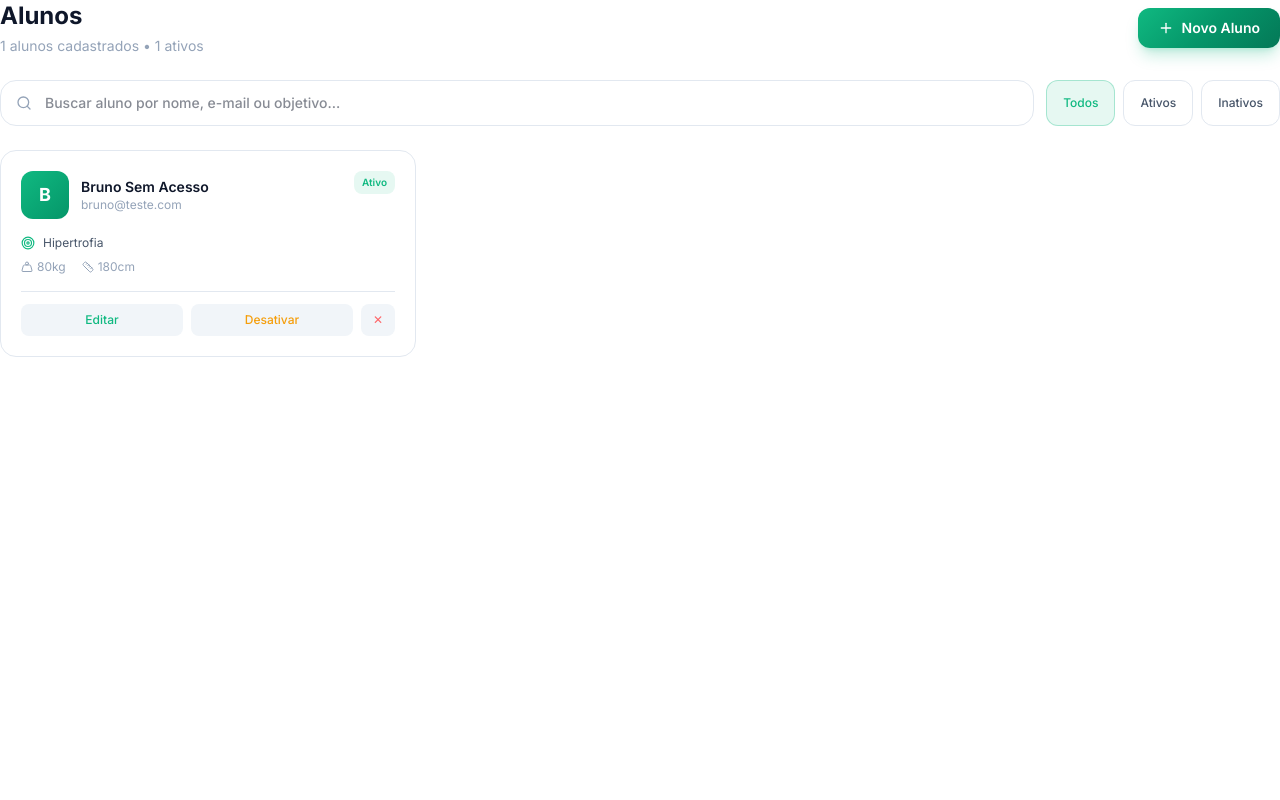
Test: StudentsPage — Student login provisioning error handling › should reject editing an existing student without userId when supplied login email belongs to another account
Expected: the heading "Bruno Sem Acesso" is shown, [81, 177, 209, 197]
Click the button "Editar" at x=102, y=320, box [21, 304, 183, 336]
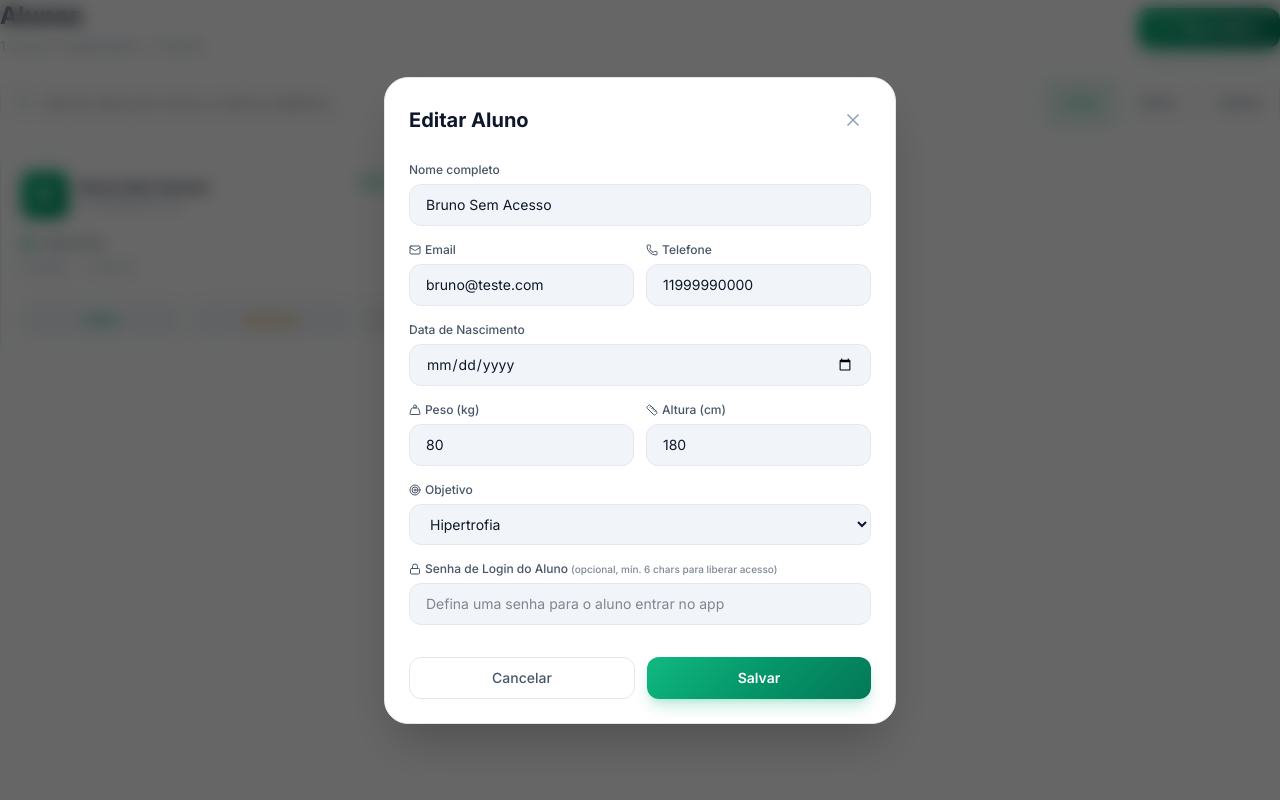
Replace the text in the field below "Nome completo" with "Bruno Alterado" at x=640, y=204, box [409, 184, 871, 226]
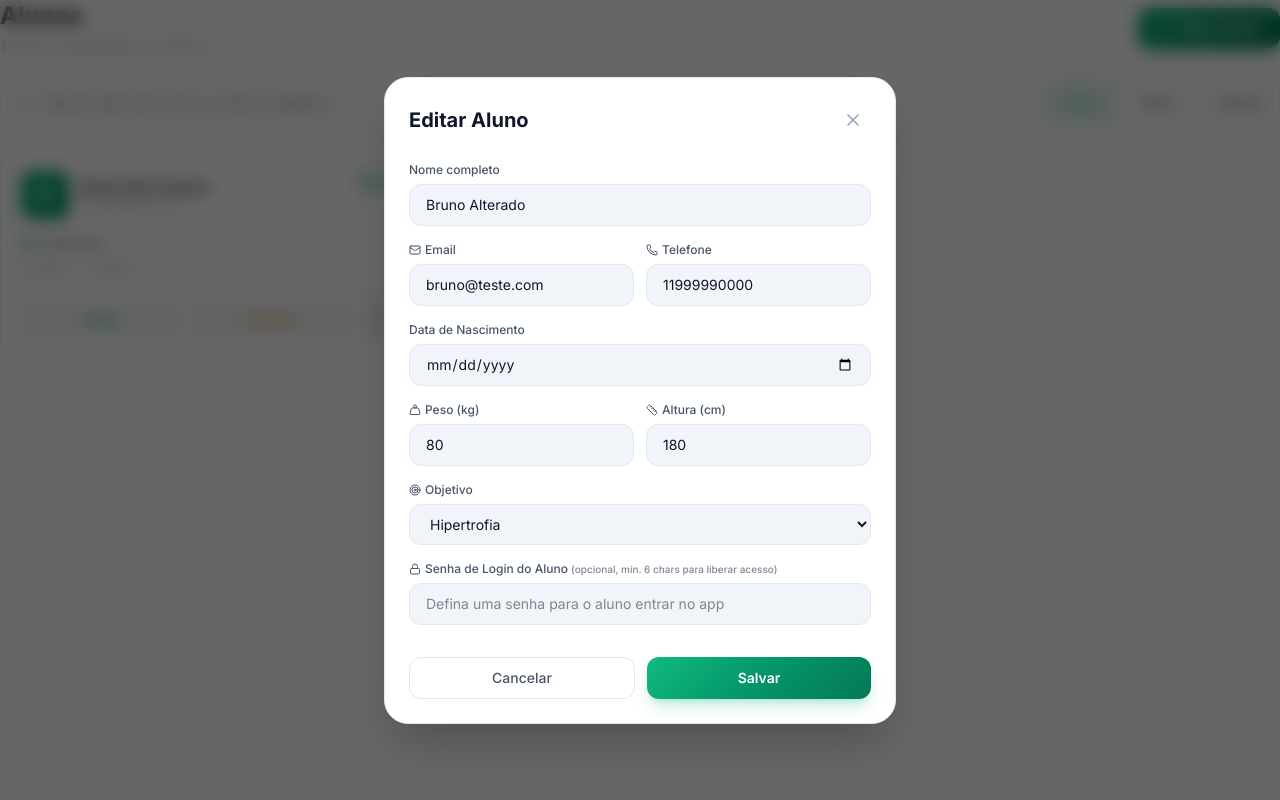
Replace the text in the field below "Email" with "ocupado@teste.com" at x=522, y=284, box [409, 264, 634, 306]
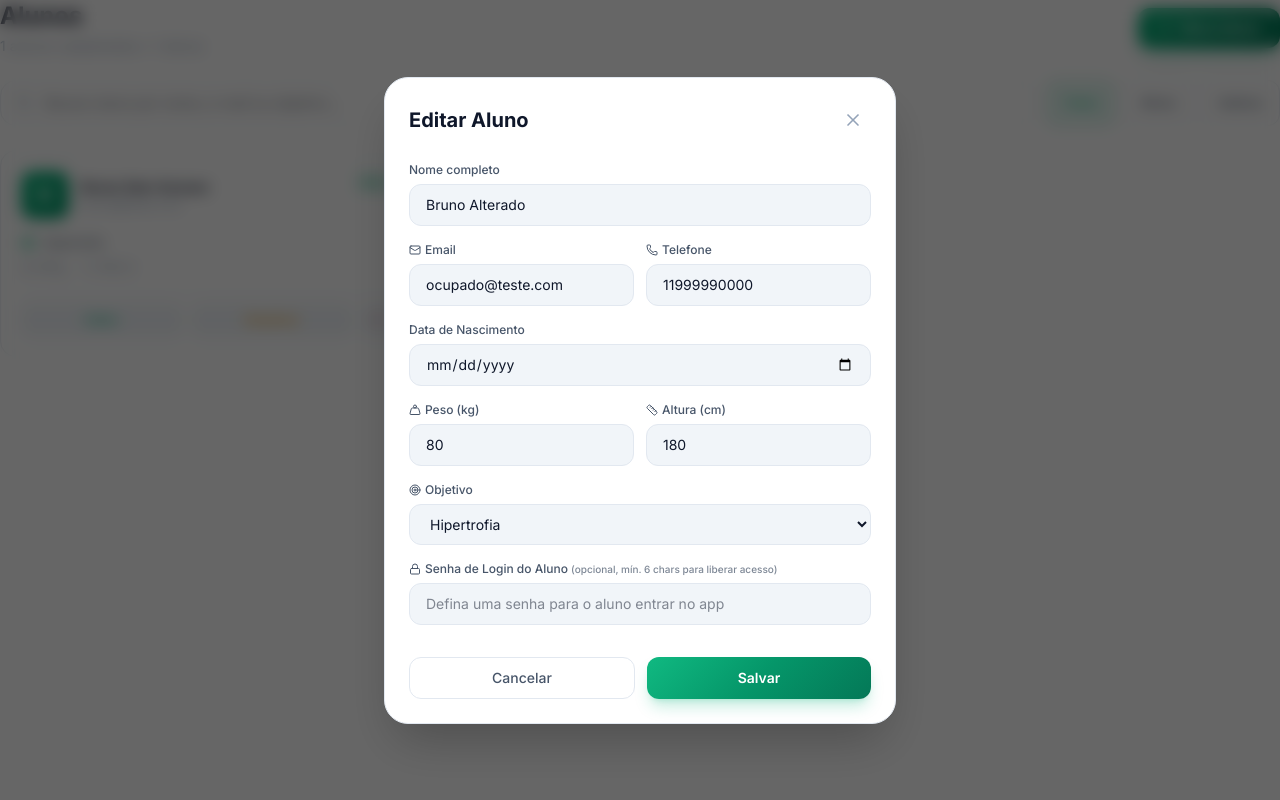
Type "senha123" into the password field with placeholder "Defina uma senha para o aluno entrar no app" at x=640, y=604, box [409, 582, 871, 624]
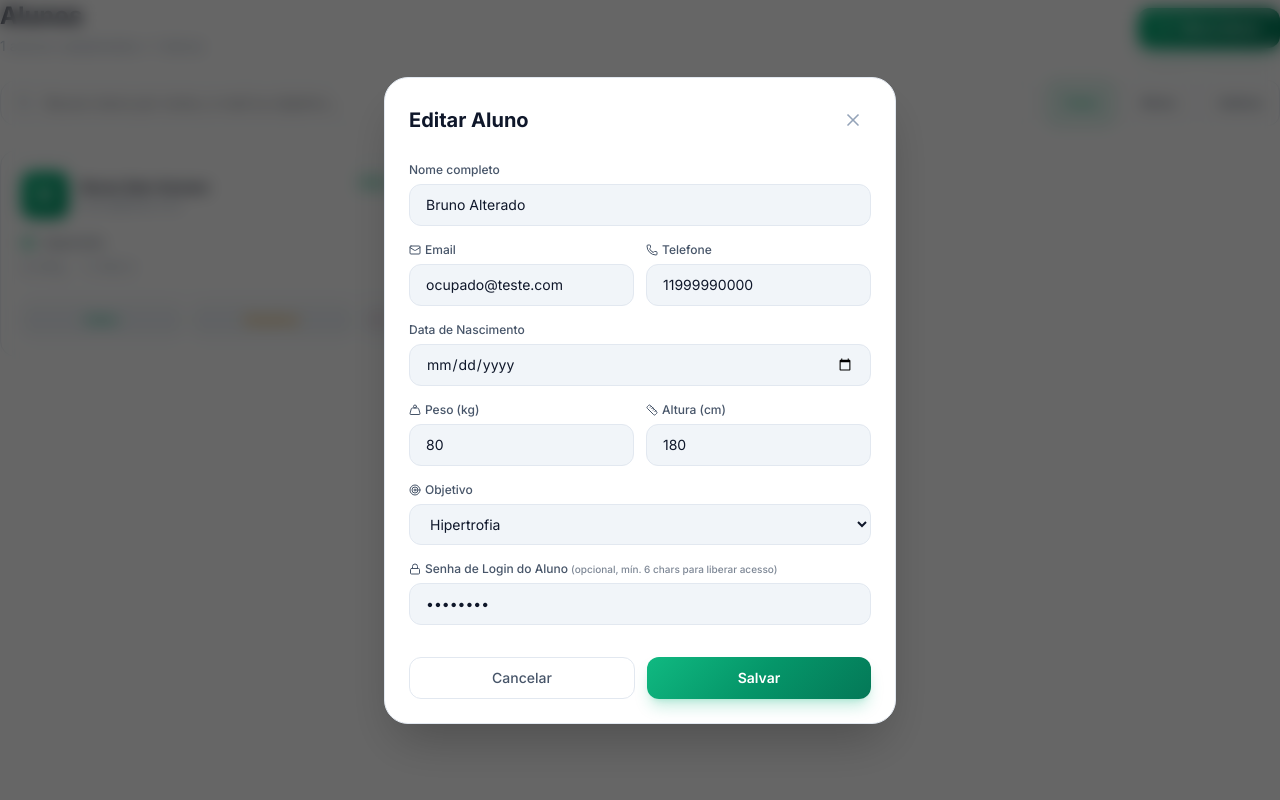
Click the button "Salvar" at x=759, y=678, box [647, 656, 871, 698]
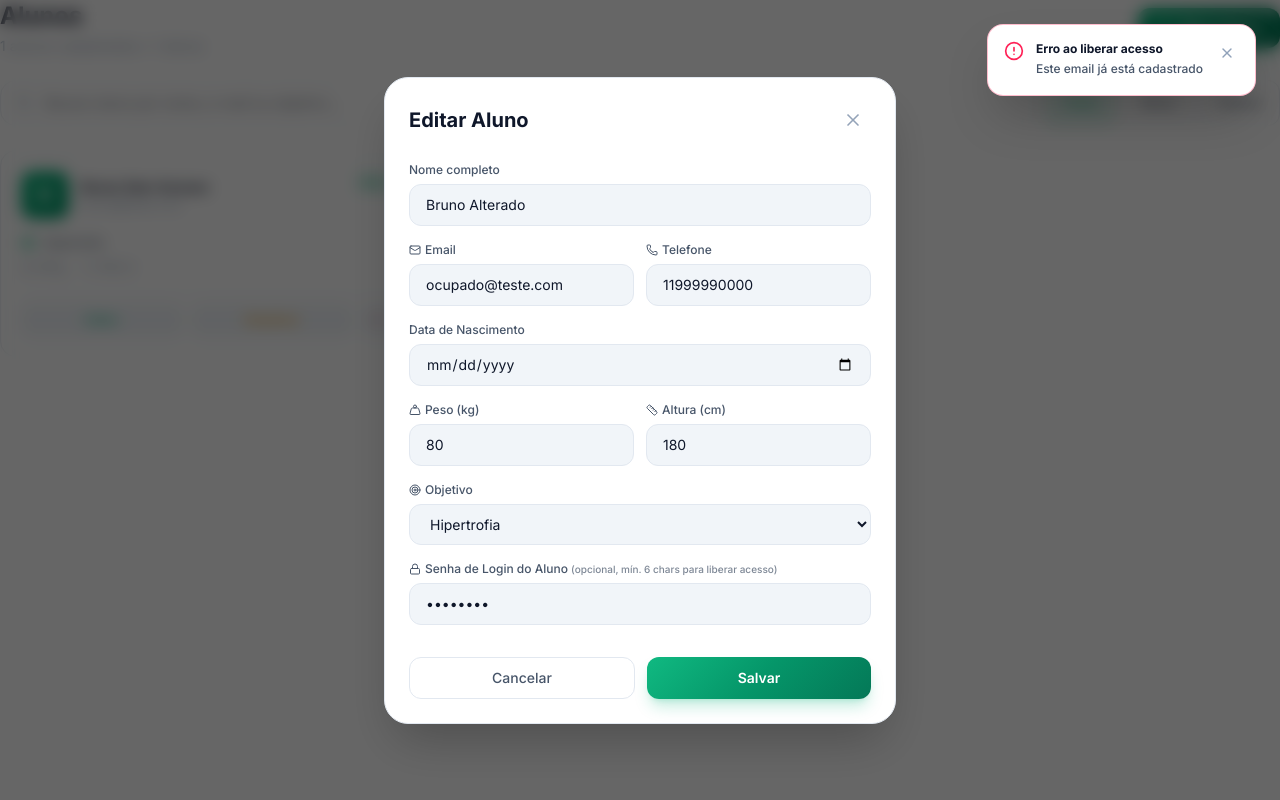
Expected: the dialog is shown, [384, 76, 896, 724]
Expected: the text "Este email já está cadastrado" is shown, [1036, 59, 1203, 78]
